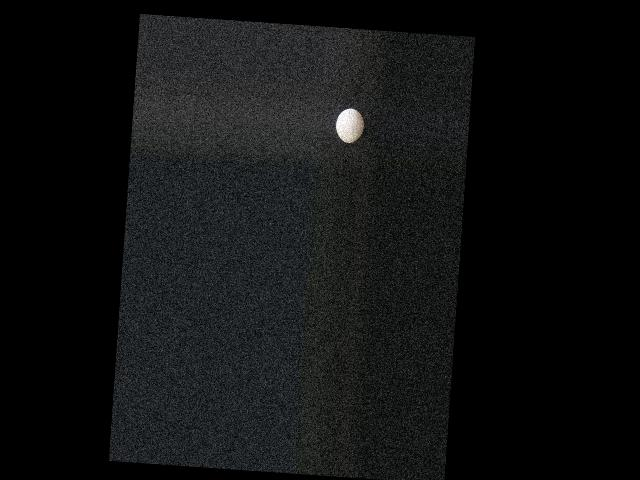egg: (335, 108, 365, 144)
